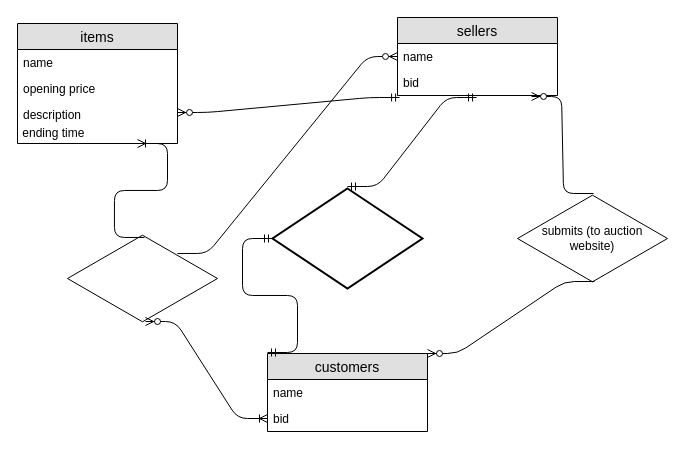
Image size: 685x452. Some labels were removed from this diagram. The centre of each missing label's shape, as x and y in pixels:
"sell" goes at (142,278).
"user" goes at (347,238).
